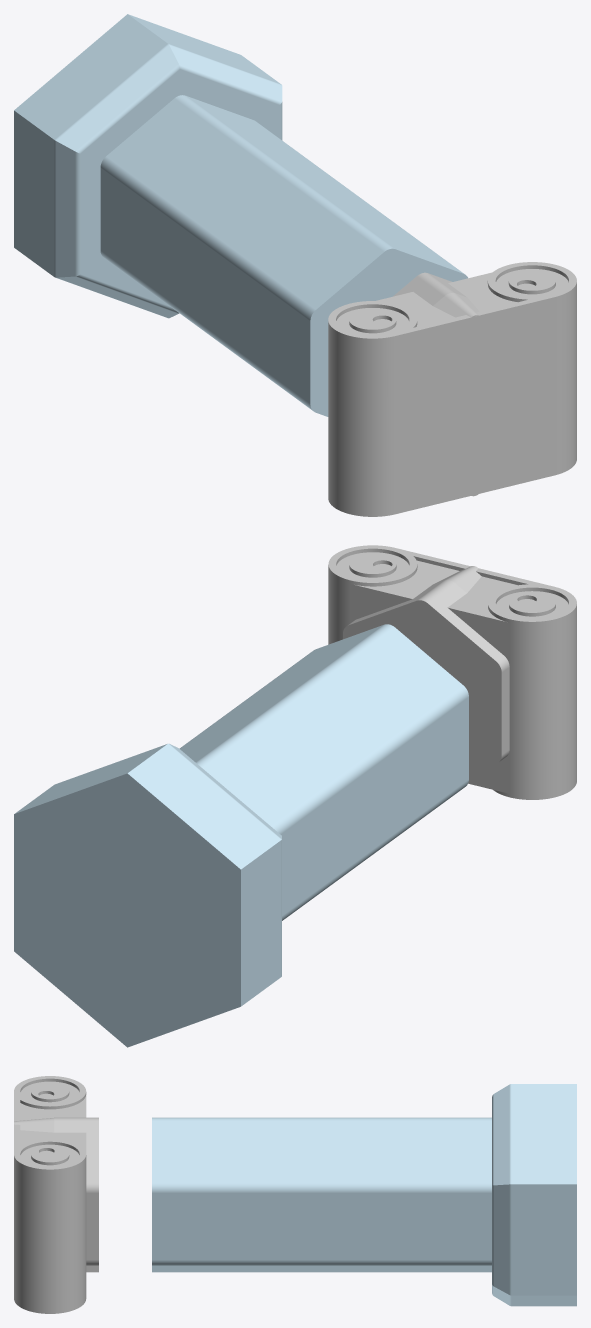
File: Pilari1.gltf
3 renders of one model, top to bottom at view 1: azimuth 30°, elevation 25°; view 2: azimuth 150°, elevation 25°; view 3: azimuth 270°, elevation 25°, orthographic. The views are drawn at different scales.
Parts seen in each view (by area): view 1: Part 3, Part 1, Part 2; view 2: Part 2, Part 3, Part 1; view 3: Part 3, Part 1, Part 2.
Boxes of the visible parts, bbox=[...] form: Part 3: bbox=[100, 95, 467, 416]; Part 1: bbox=[328, 262, 576, 516]; Part 2: bbox=[14, 14, 282, 318]; Part 2: bbox=[14, 743, 281, 1047]; Part 3: bbox=[179, 624, 468, 920]; Part 1: bbox=[328, 545, 576, 799]; Part 3: bbox=[152, 1117, 491, 1272]; Part 1: bbox=[14, 1076, 98, 1313]; Part 2: bbox=[492, 1084, 576, 1306].
Size of the model in its own units: 0.1042 by 0.1155 by 0.265.
